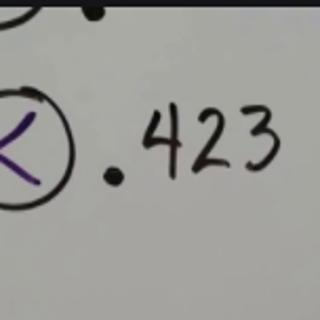.: (97, 163, 129, 189)
2: (193, 106, 233, 172)
3: (243, 101, 281, 174)
4: (143, 102, 182, 179)
